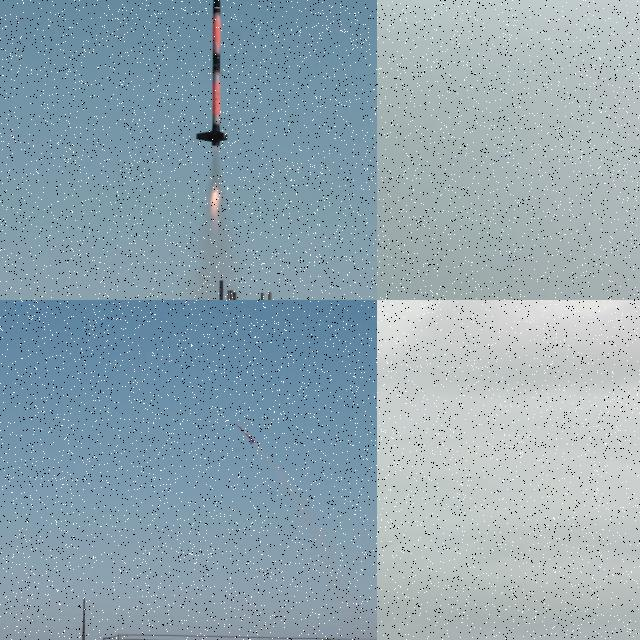Rocket: (195, 0, 230, 147), (235, 422, 258, 446)
